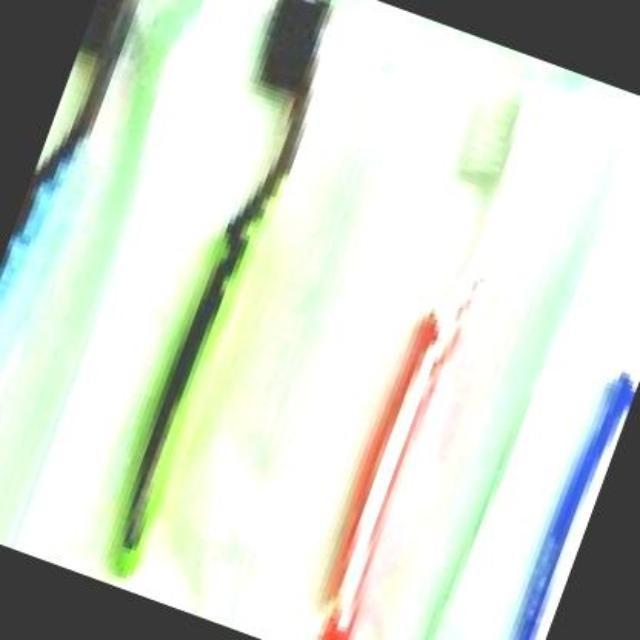toothbrush: (240, 44, 600, 638), (49, 1, 397, 574), (458, 128, 638, 638), (0, 1, 176, 496)
